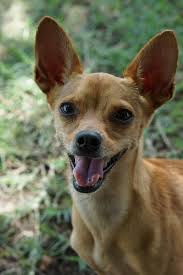Chihuahua: (22, 6, 183, 275)
